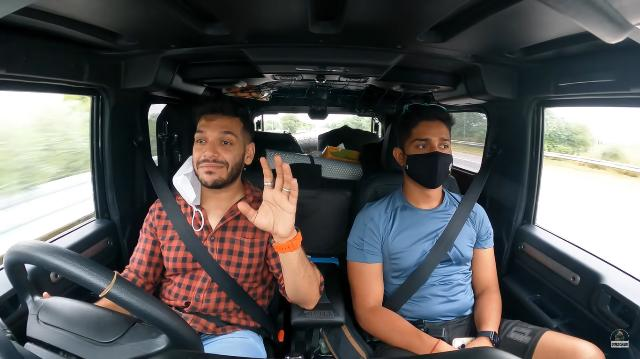seatbelt: (140, 151, 286, 344), (352, 180, 508, 330)
